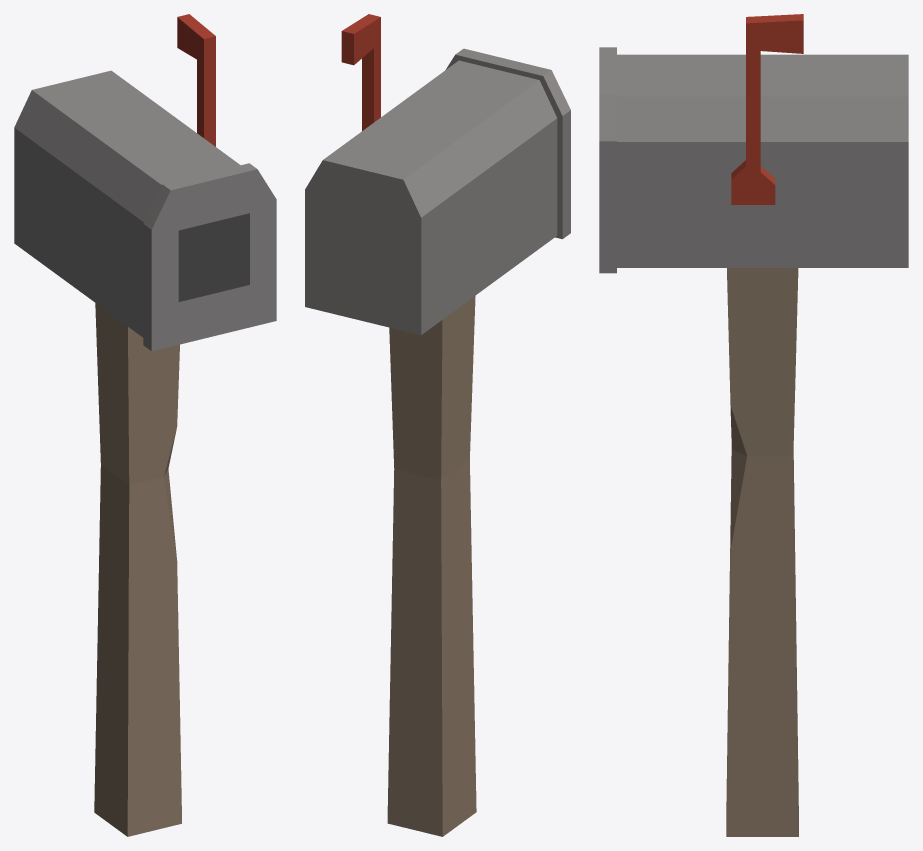
The model's file is SM_Prop_LetterBox_01.fbx.
The picture shows the model from 3 angles, left to right: view 1: azimuth 30°, elevation 25°; view 2: azimuth 150°, elevation 25°; view 3: azimuth 270°, elevation 25°; orthographic projection. The views are drawn at different scales.
Visible parts, largest first — view 1: SM_Prop_LetterBox_01, SM_Prop_LetterBox_01_Flag; view 2: SM_Prop_LetterBox_01, SM_Prop_LetterBox_01_Flag; view 3: SM_Prop_LetterBox_01, SM_Prop_LetterBox_01_Flag.
Boxes of the visible parts, box(x1,y1,x2,y2) form: SM_Prop_LetterBox_01: box(14, 70, 276, 836); SM_Prop_LetterBox_01_Flag: box(177, 14, 215, 146); SM_Prop_LetterBox_01: box(305, 48, 570, 836); SM_Prop_LetterBox_01_Flag: box(341, 14, 380, 130); SM_Prop_LetterBox_01: box(599, 47, 908, 836); SM_Prop_LetterBox_01_Flag: box(731, 14, 803, 204).
Bounding box in the file's own units: 24.13 × 135 × 45.17.
